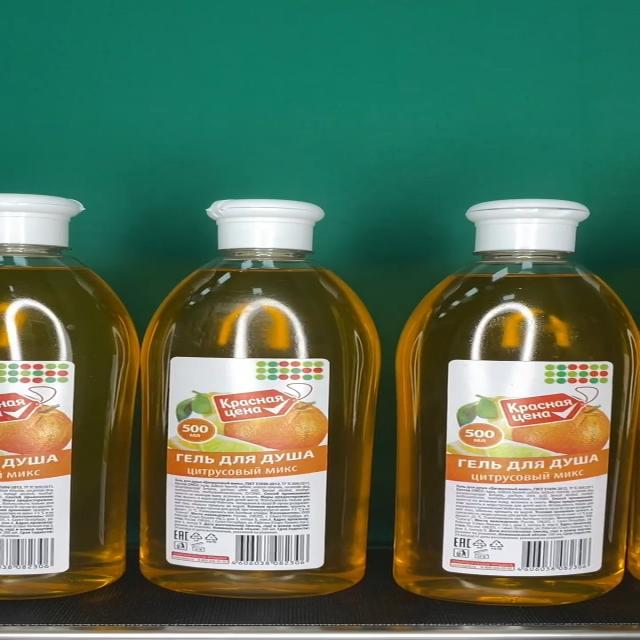Bottle: (395, 199, 640, 604), (140, 200, 384, 598)
Cap: (466, 199, 592, 252), (207, 200, 327, 250)
